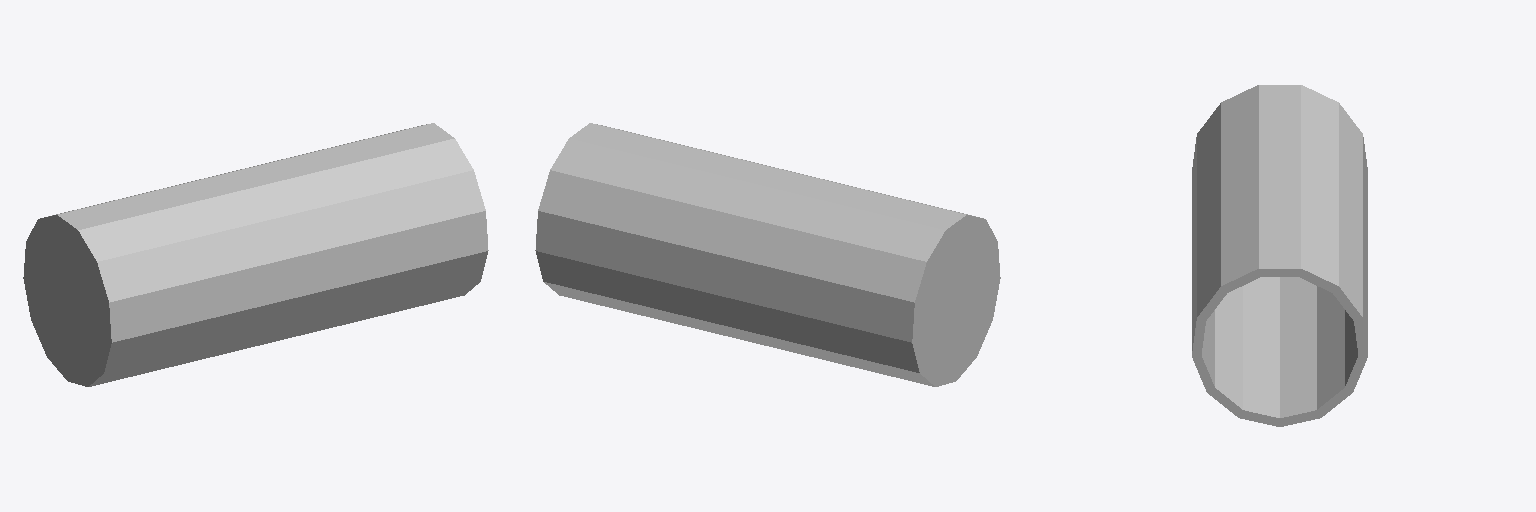
File: Left.obj
3 renders of one model, left to right at view 1: azimuth 30°, elevation 25°; view 2: azimuth 150°, elevation 25°; view 3: azimuth 270°, elevation 25°, orthographic.
Parts seen in each view (by area): view 1: Left; view 2: Left; view 3: Left.
Part boxes in pixels (x1,y1,x2,y2): Left: (23, 123, 488, 386); Left: (535, 123, 1000, 386); Left: (1192, 85, 1367, 426).
Bounding box in the file's own units: 0.0881 × 0.0355 × 0.0357.